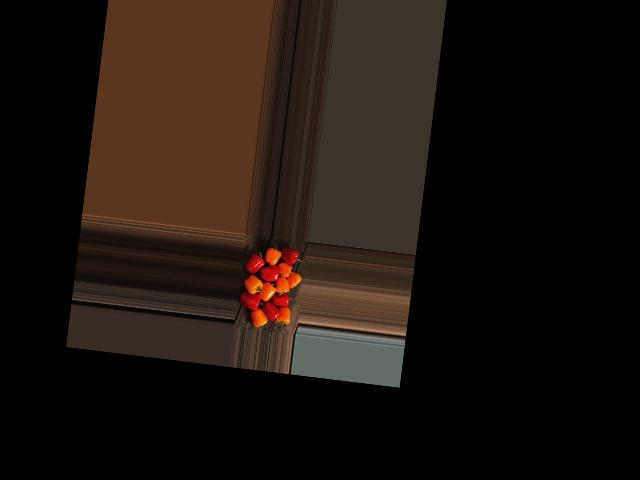bell_pepper: (245, 302, 269, 329)
